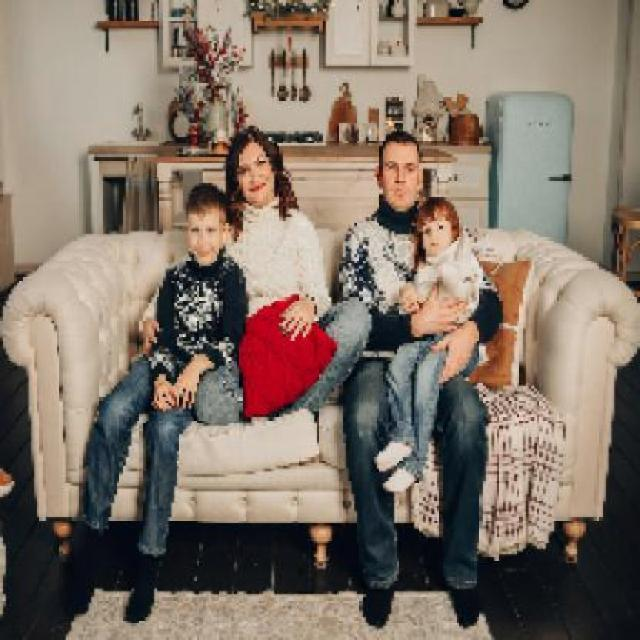child: (371, 196, 483, 493)
